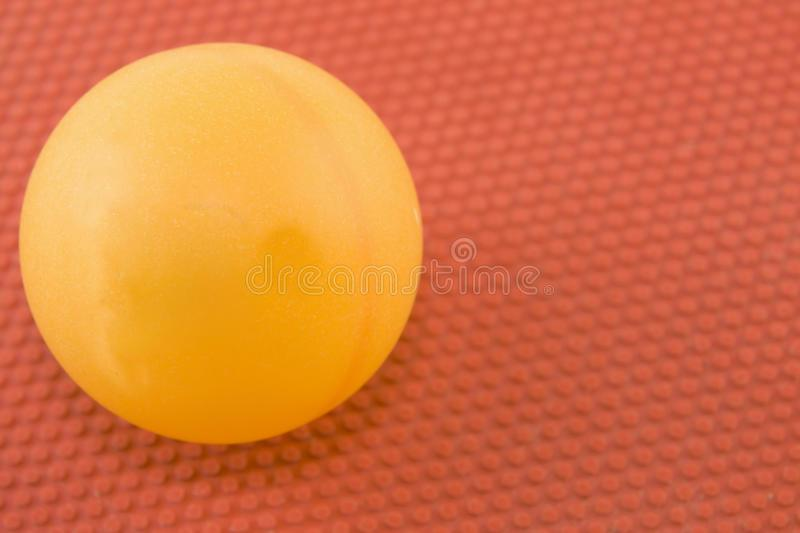oball: (10, 29, 441, 459)
